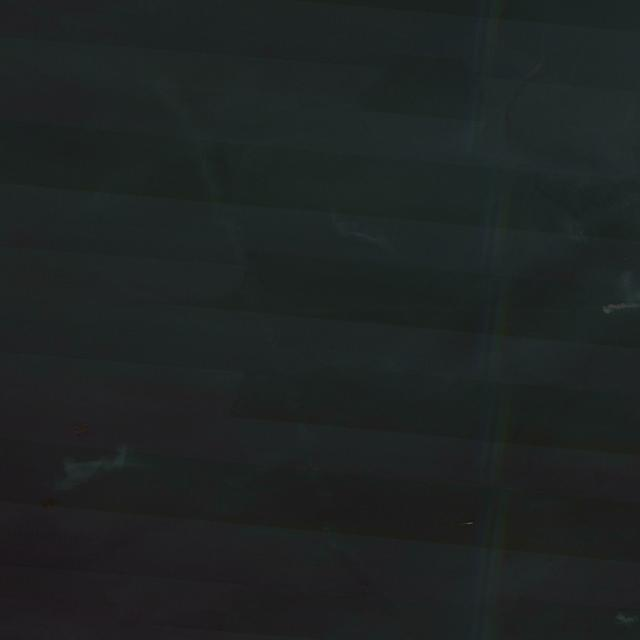ship: (469, 522, 473, 524)
